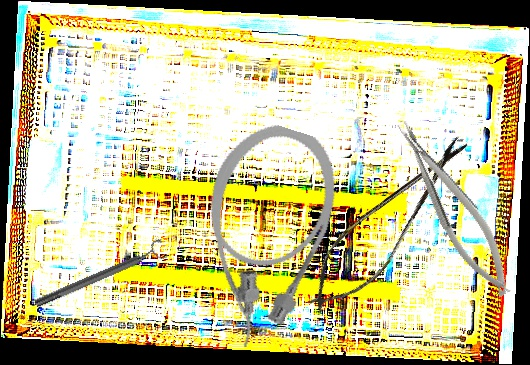Cannula: (169, 112, 354, 360)
Fixation Ring: (31, 237, 169, 314)
Micro Scissor: (292, 120, 483, 327)
Needle Holder: (388, 110, 522, 305)
